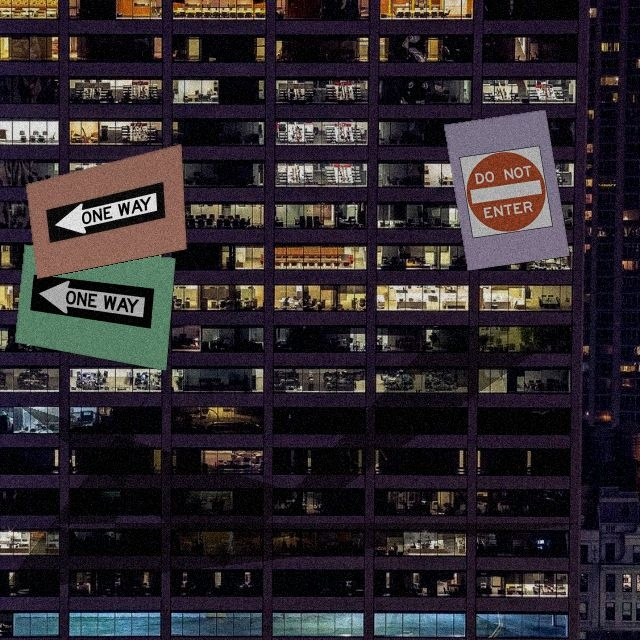DO_NOT_ENTER: (459, 144, 554, 239)
ONE_WAY_ left: (28, 271, 157, 329), (45, 182, 167, 243)
